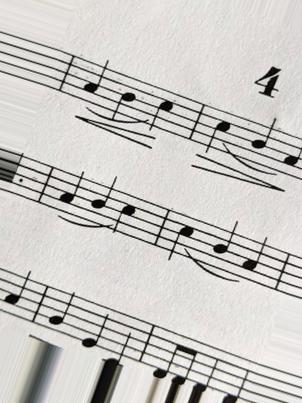A: (81, 58, 110, 112), (55, 167, 86, 217), (239, 234, 269, 285), (3, 269, 32, 320)
B: (200, 220, 238, 277), (91, 176, 121, 235), (110, 70, 138, 123), (252, 117, 275, 170)
E: (81, 298, 111, 351)
G: (44, 286, 75, 338)
HC: (146, 84, 178, 134), (200, 105, 232, 155), (112, 189, 140, 242), (167, 210, 195, 262)
